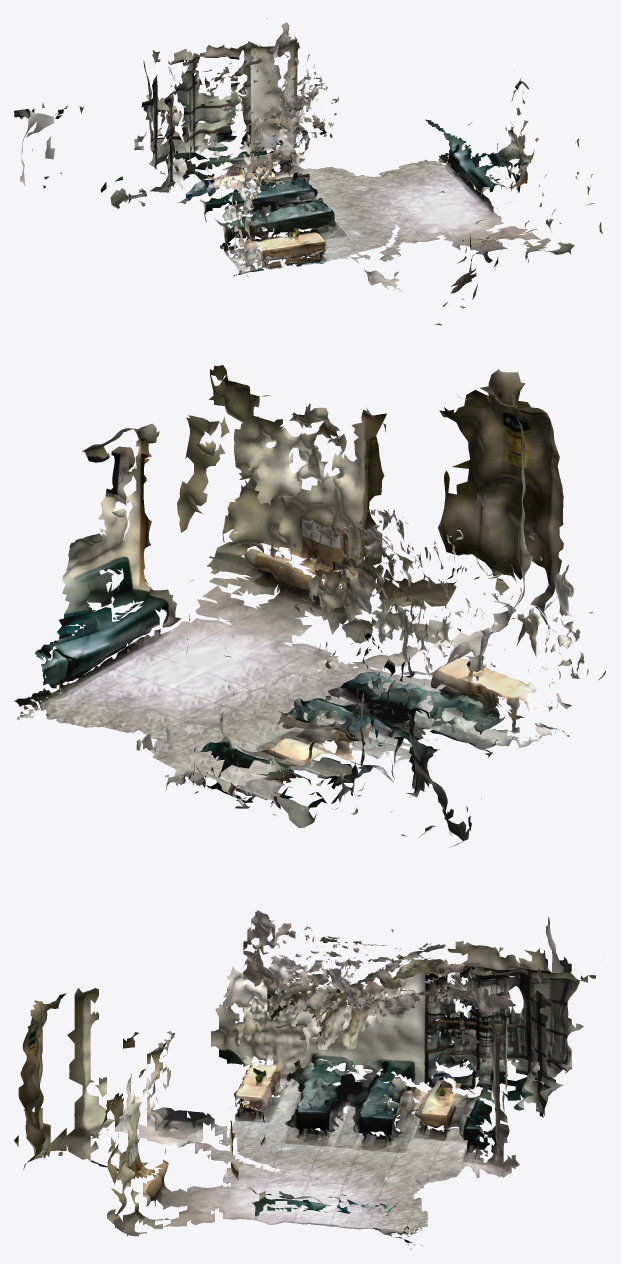
Rendered from 147312-tempatgigitower3-tex.glb.
3 renders of one model, top to bottom at view 1: azimuth 30°, elevation 25°; view 2: azimuth 150°, elevation 25°; view 3: azimuth 270°, elevation 25°, orthographic. The views are drawn at different scales.
Parts seen in each view (by area): view 1: Node; view 2: Node; view 3: Node.
Boxes of the visible parts, x1,y1,x2,y2 form: Node: (14,18,602,325); Node: (14,365,605,846); Node: (14,910,595,1249).
Bounding box in the file's own units: 8.04 × 3.35 × 8.83.
15 materials, 15 textured.
